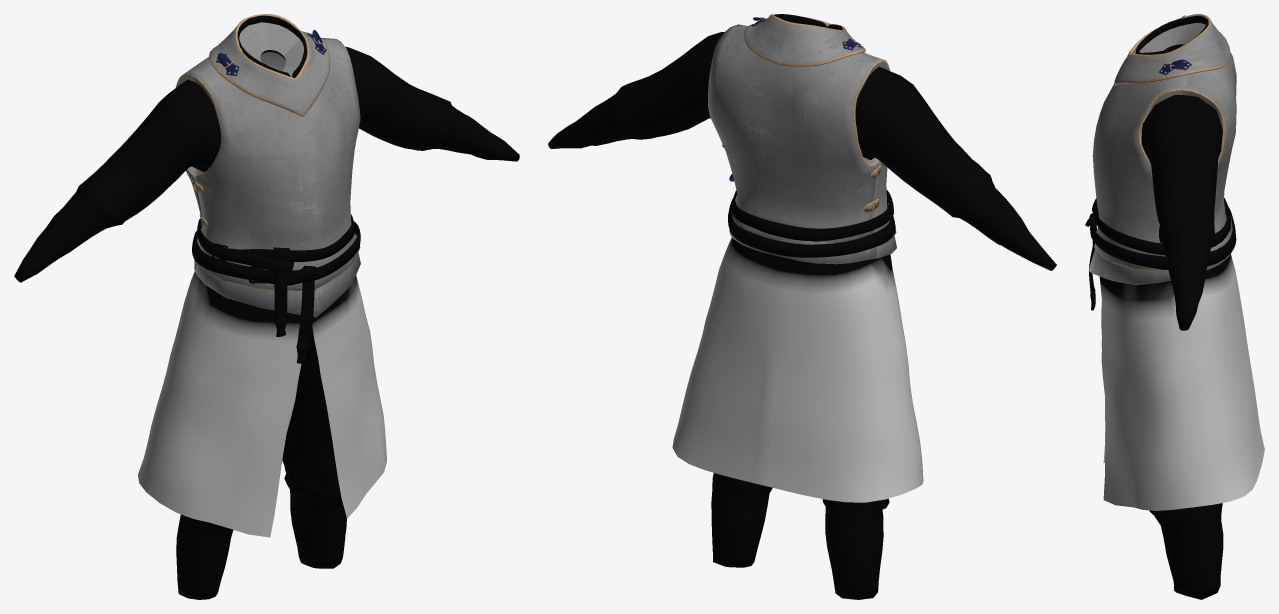
Rendered from swan_knight_armor_1a_t1_slim.fbx.
3 renders of one model, left to right at view 1: azimuth 30°, elevation 25°; view 2: azimuth 150°, elevation 25°; view 3: azimuth 270°, elevation 25°, orthographic. The views are drawn at different scales.
Parts seen in each view (by area): view 1: swan_knight_armor_1a_t1_slim.0, swan_knight_armor_1a_t1_slim.1; view 2: swan_knight_armor_1a_t1_slim.0, swan_knight_armor_1a_t1_slim.1; view 3: swan_knight_armor_1a_t1_slim.0, swan_knight_armor_1a_t1_slim.1.
Boxes of the visible parts, bbox=[...] form: swan_knight_armor_1a_t1_slim.0: bbox=[14, 15, 519, 599]; swan_knight_armor_1a_t1_slim.1: bbox=[175, 14, 360, 317]; swan_knight_armor_1a_t1_slim.0: bbox=[548, 14, 1056, 599]; swan_knight_armor_1a_t1_slim.1: bbox=[708, 14, 896, 264]; swan_knight_armor_1a_t1_slim.0: bbox=[1085, 16, 1264, 599]; swan_knight_armor_1a_t1_slim.1: bbox=[1088, 14, 1236, 284].
Bounding box in the file's own units: 1.3 × 0.4125 × 1.37.
